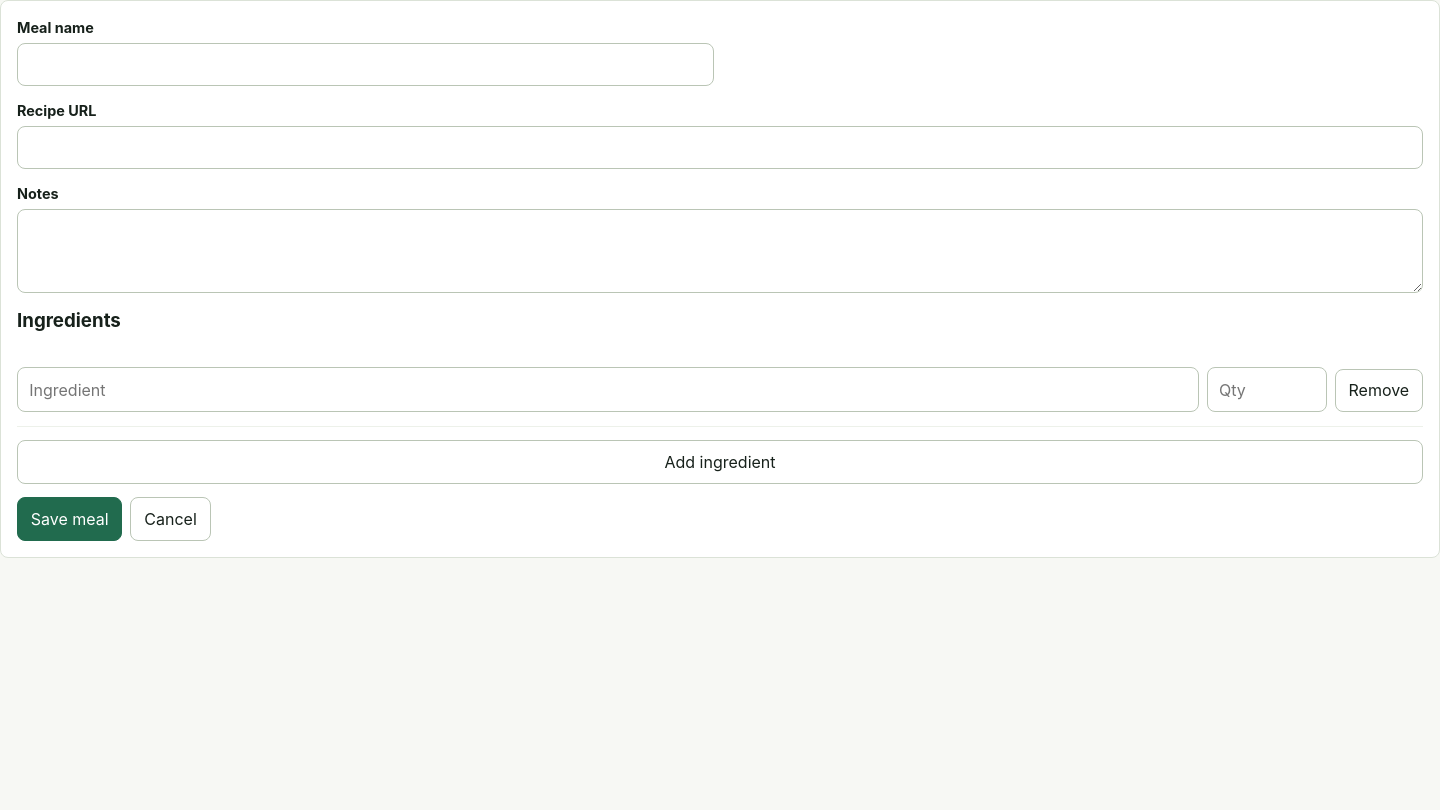
Test: MealForm › validates required meal details before saving
Step 1. Click the button "Save meal" → (70, 519), box [17,498,122,541]
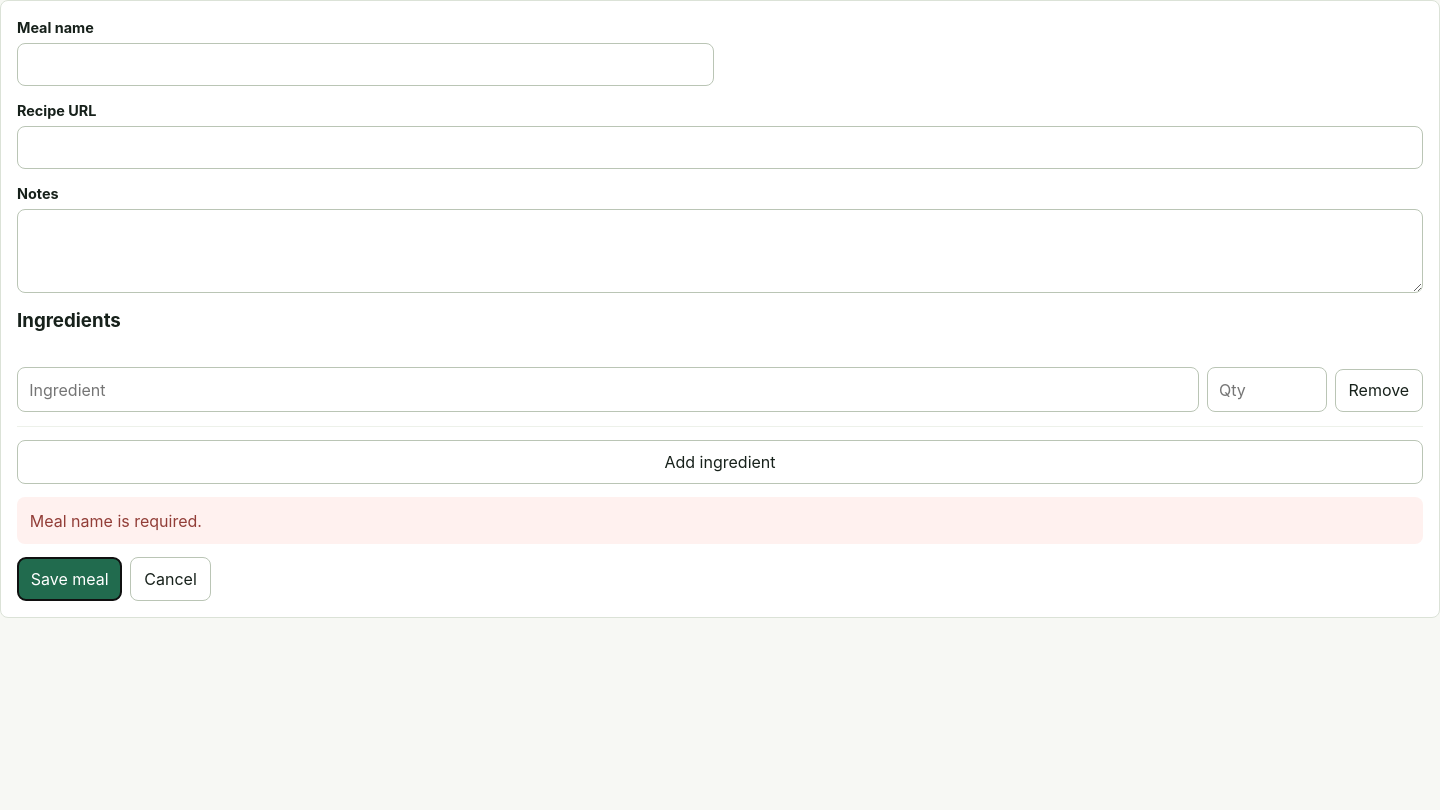
expect the text "Meal name is required." is shown: met, box [17,498,1423,544]
